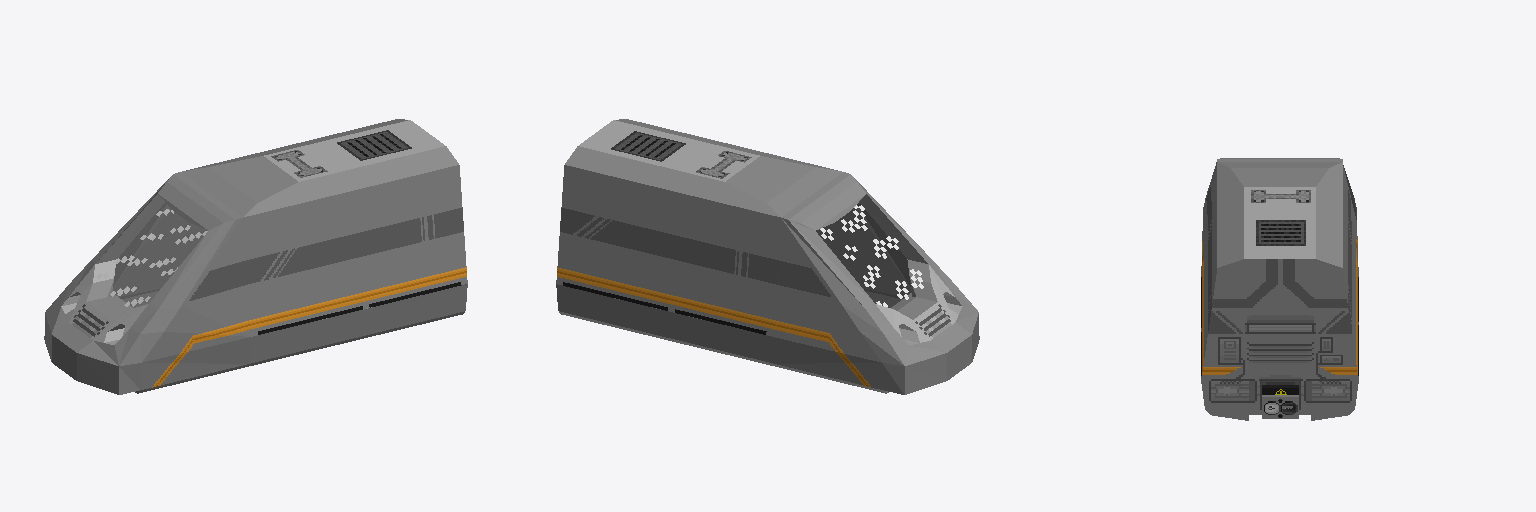
The picture shows the model from 3 angles: view 1: azimuth 30°, elevation 25°; view 2: azimuth 150°, elevation 25°; view 3: azimuth 270°, elevation 25°; orthographic projection.
Visible parts, largest first — view 1: CAB, SHELL, FRAME; view 2: CAB, SHELL, FRAME; view 3: CAB, SHELL, FRAME.
Part boxes in pixels (x1,y1,x2,y2): CAB: (181,119,467,363); SHELL: (44,172,250,394); FRAME: (135,311,464,393); CAB: (556,119,842,363); SHELL: (773,172,979,394); FRAME: (559,311,888,393); CAB: (1201,162,1358,418); SHELL: (1201,158,1358,273); FRAME: (1206,410,1353,420).
Bounding box in the file's own units: 7.08 × 2.86 × 2.52.
3 materials, 3 textured.